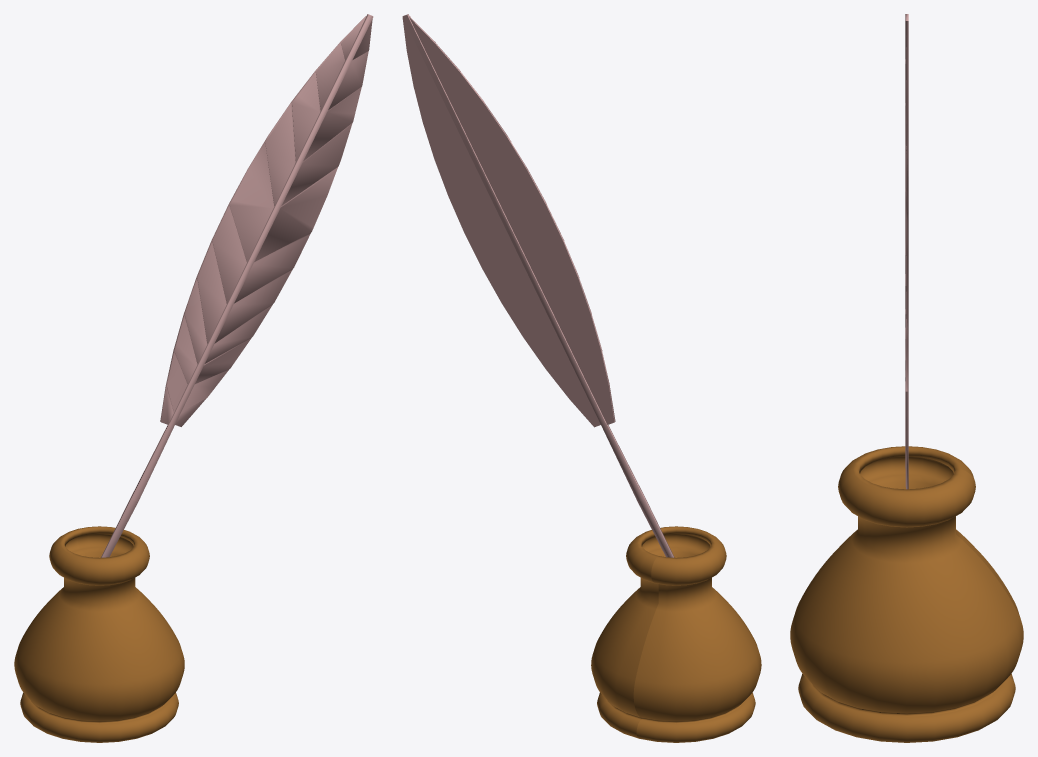
File: quill.fbx
3 renders of one model, left to right at view 1: azimuth 30°, elevation 25°; view 2: azimuth 150°, elevation 25°; view 3: azimuth 270°, elevation 25°, orthographic. The views are drawn at different scales.
Parts seen in each view (by area): view 1: Group_002, Group_001; view 2: Group_002, Group_001; view 3: Group_001, Group_002.
Part boxes in pixels (left/top/right/bottom): Group_002: left=101, top=14, right=373, bottom=557; Group_001: left=14, top=526, right=184, bottom=742; Group_002: left=402, top=14, right=674, bottom=557; Group_001: left=591, top=526, right=761, bottom=742; Group_001: left=790, top=446, right=1023, bottom=742; Group_002: left=905, top=14, right=908, bottom=489.
Size of the model in its own units: 103 by 182 by 43.59.
